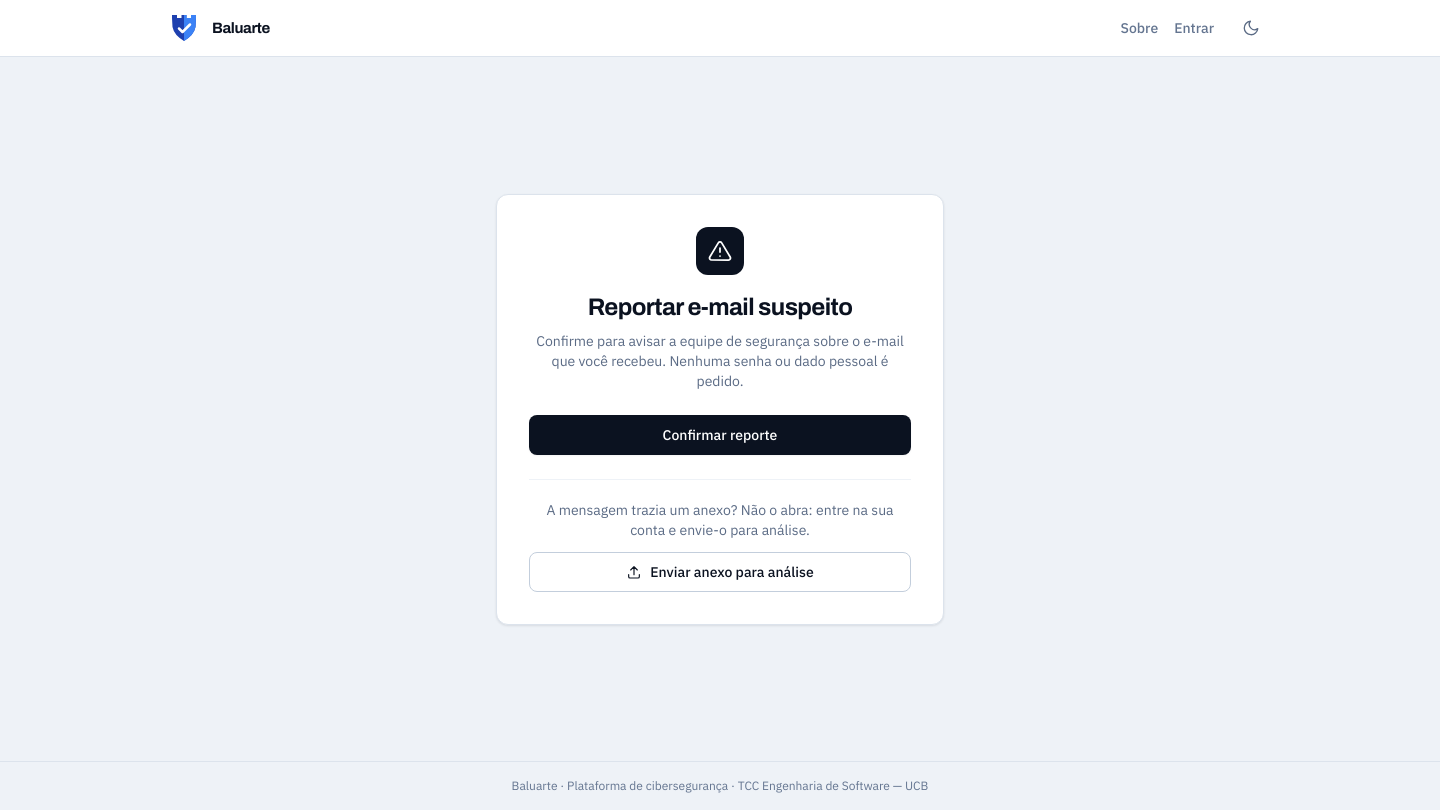
Test case: /t/:token/reportar › só registra o reporte depois da confirmação
Check: the heading "Reportar e-mail suspeito" is shown, box [588,290,852,322]
Click the button "Confirmar reporte": (720, 434) [529,414,911,454]
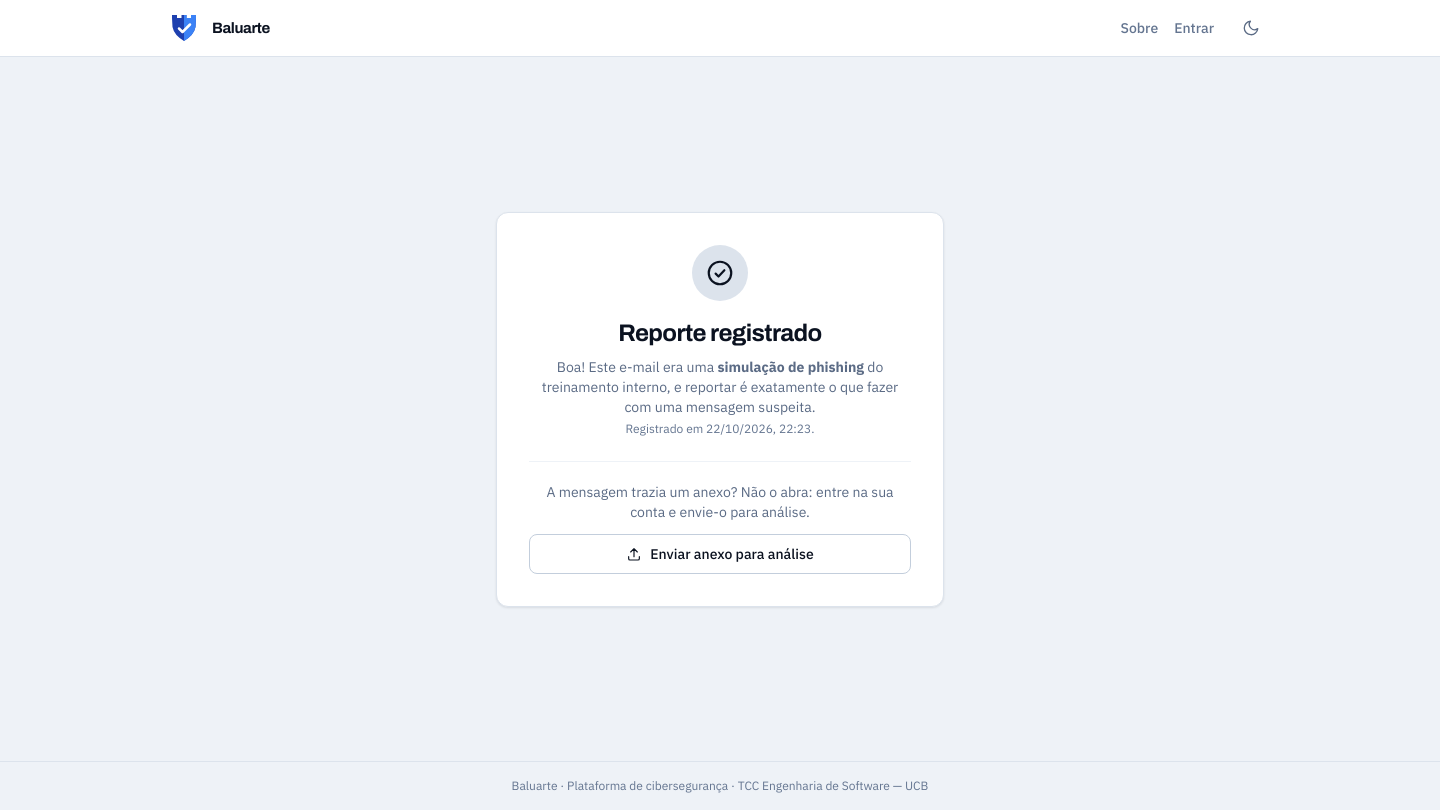
Check: the heading "Reporte registrado" is shown, box [618,316,822,348]
Check: the message shows "simulação de phishing", box [717,358,864,376]
